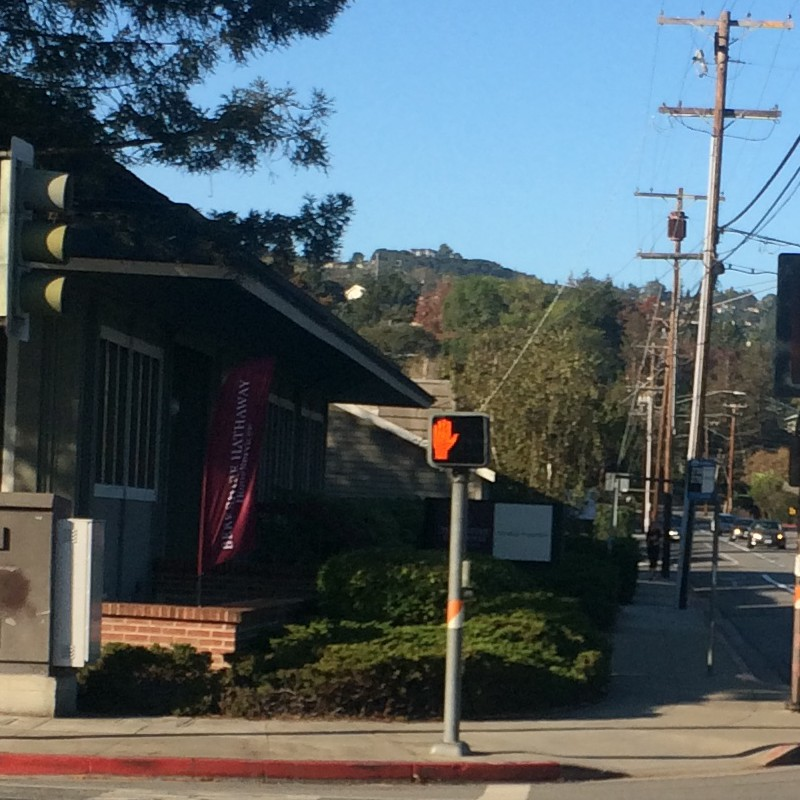stop: (429, 419, 490, 469)
